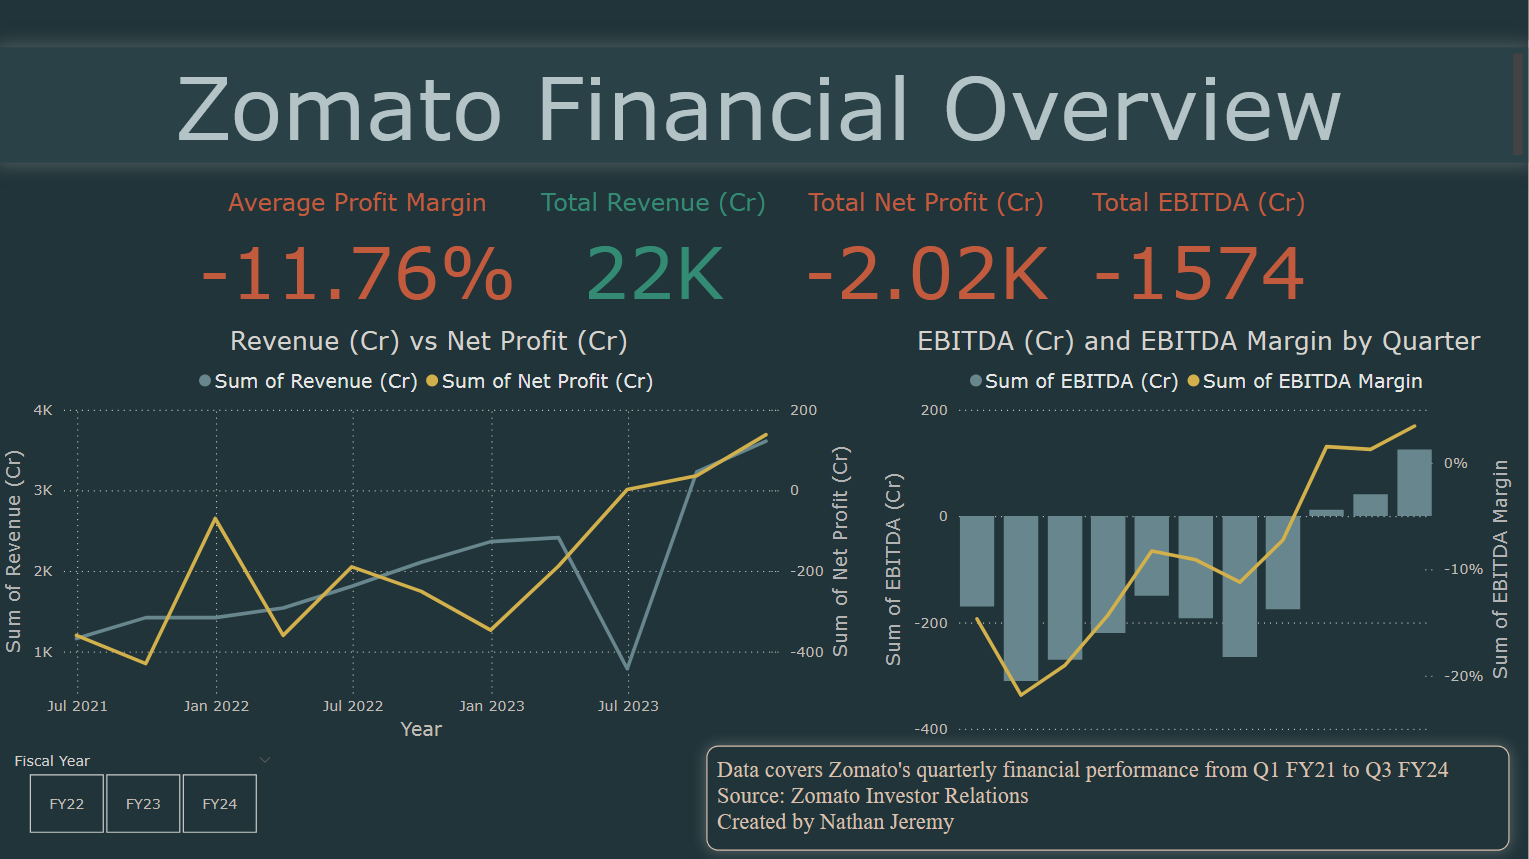

The dashboard page shown, as its layout file describes it:
{"tool":"powerbi","page":{"name":"Page 1","canvas":[1280,720],"ordinal":0},"visuals":[{"type":"card","fields":{"Values":["Sum(Sheet1.Revenue (Cr))"]},"box":[448,152,200,120],"z":0},{"type":"card","fields":{"Values":["Sum(Sheet1.EBITDA (Cr))"]},"box":[904,152,200,120],"z":1000},{"type":"card","fields":{"Values":["Sum(Sheet1.Net Profit (Cr))"]},"box":[648,152,256,120],"z":2000},{"type":"card","fields":{"Values":["Avg(Sheet1.Profit Margin)"]},"box":[152,152,296,120],"z":3000},{"type":"lineChart","title":"Revenue (Cr) vs Net Profit (Cr) ","fields":{"Y":["Sum(Sheet1.Revenue (Cr))"],"Y2":["Sum(Sheet1.Net Profit (Cr))"],"Category":["Sheet1.End Date.Variation.Date Hierarchy.Year","Sheet1.End Date.Variation.Date Hierarchy.Quarter","Sheet1.End Date.Variation.Date Hierarchy.Month","Sheet1.End Date.Variation.Date Hierarchy.Day"]},"box":[0,272,720,352],"z":4000},{"type":"lineStackedColumnComboChart","title":"EBITDA (Cr) and EBITDA Margin by Quarter","fields":{"Y":["Sum(Sheet1.EBITDA (Cr))"],"Y2":["Sum(Sheet1.EBITDA Margin)"],"Category":["Sheet1.End Date"]},"box":[736,272,536,352],"z":5000},{"type":"slicer","fields":{"Values":["Sheet1.Fiscal Year"]},"box":[0,624,240,80],"z":6000},{"type":"textbox","box":[0,40,1280,96],"z":7000},{"type":"textbox","box":[592,624,672,88],"z":8000}]}

Visuals, with their boxes in screenshot pixels (x1, y1, x2, y2), scaled from the page's 1280x720 canvas onto the 1529x859 screenshot:
card - Sum(Sheet1.Revenue (Cr)): 535:181:774:325
card - Sum(Sheet1.EBITDA (Cr)): 1080:181:1319:325
card - Sum(Sheet1.Net Profit (Cr)): 774:181:1080:325
card - Avg(Sheet1.Profit Margin): 182:181:535:325
"Revenue (Cr) vs Net Profit (Cr) " lineChart: 0:325:860:744
"EBITDA (Cr) and EBITDA Margin by Quarter" lineStackedColumnComboChart: 879:325:1519:744
slicer - Sheet1.Fiscal Year: 0:744:287:840
textbox: 0:48:1528:162
textbox: 707:744:1510:849
